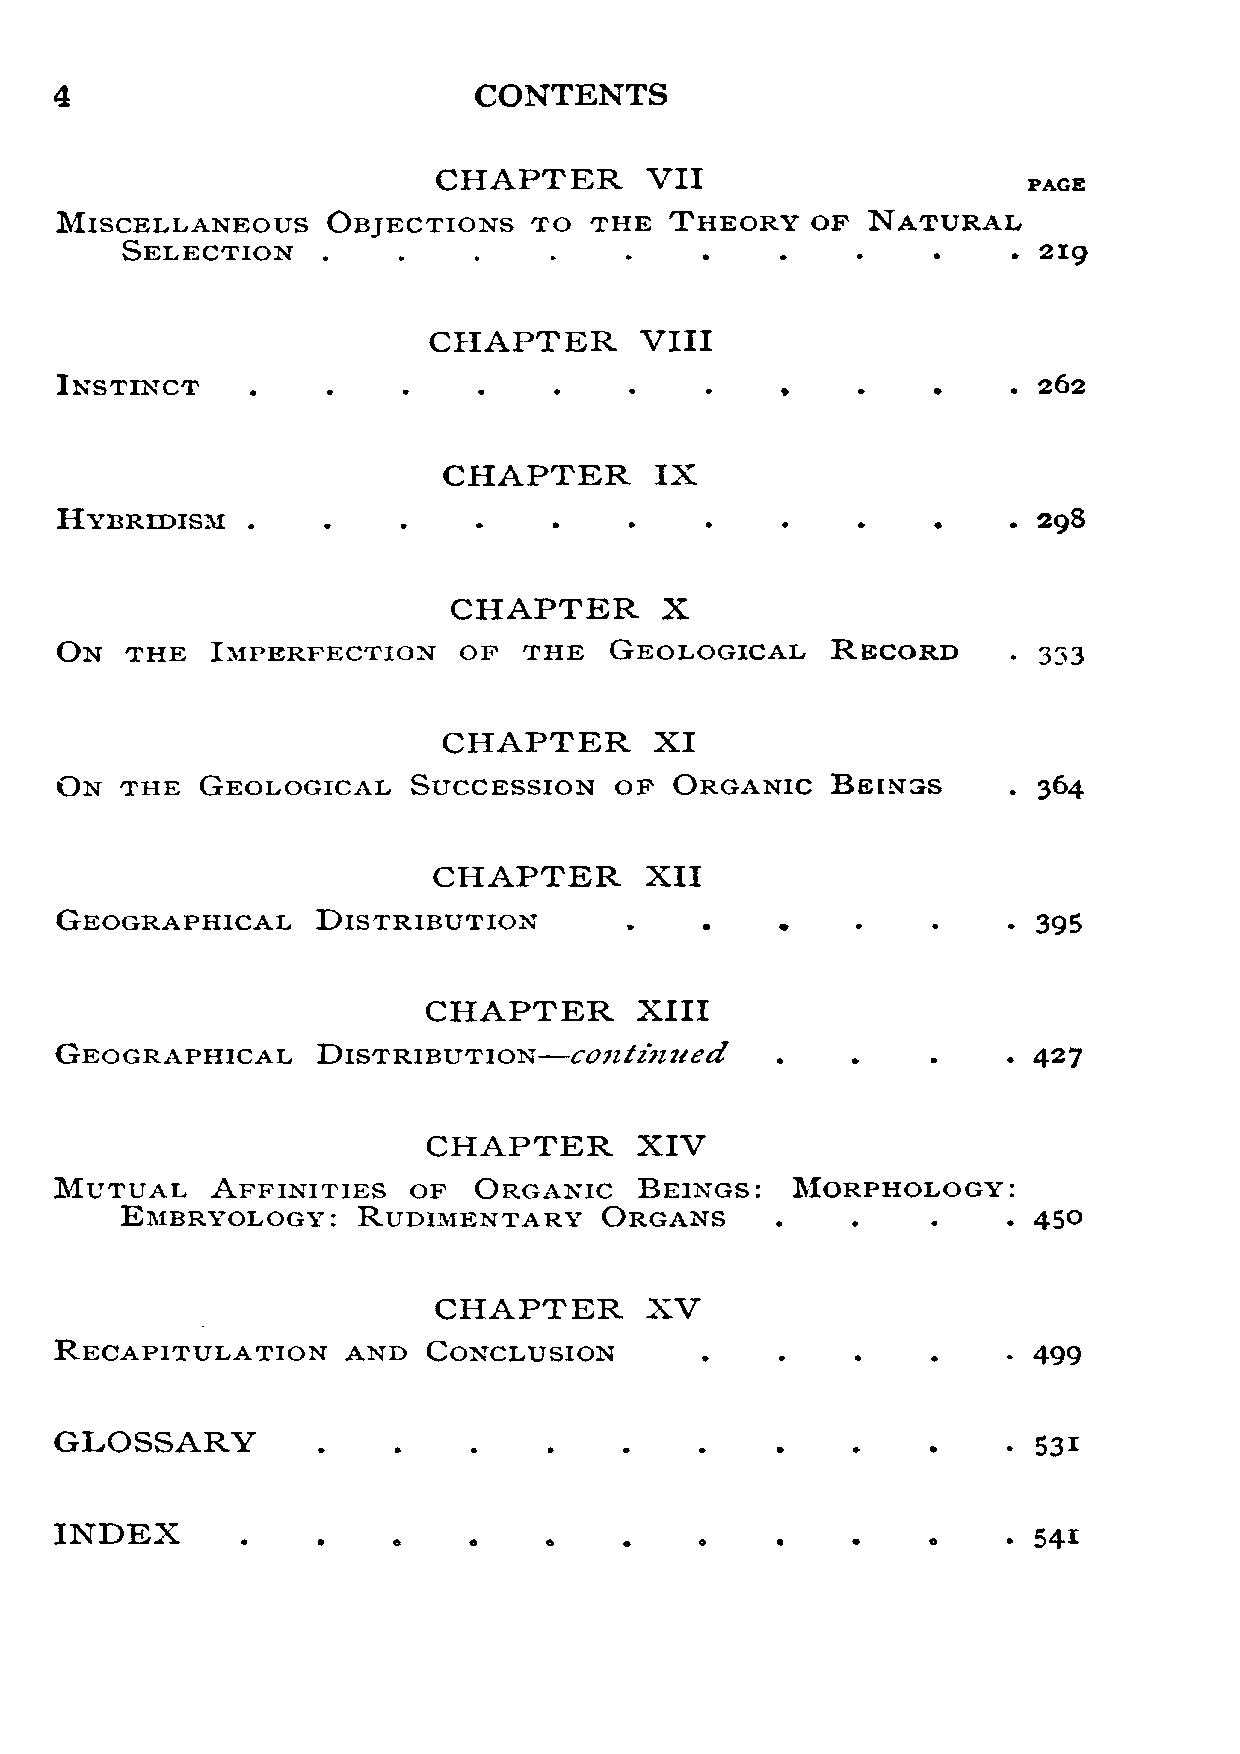TOC_chapter: (48, 1166, 1024, 1231), (50, 203, 1027, 262), (50, 628, 960, 676), (56, 764, 942, 807), (50, 1329, 631, 1376), (52, 1031, 735, 1067), (59, 900, 541, 942), (417, 309, 717, 366), (416, 985, 713, 1031), (416, 148, 706, 193), (427, 450, 703, 493), (433, 722, 709, 765), (450, 582, 692, 628), (411, 858, 717, 892), (50, 1414, 260, 1460), (429, 1286, 709, 1319), (423, 1125, 711, 1157), (43, 352, 200, 411), (54, 488, 229, 539), (43, 1516, 184, 1551)
TOC_pagenumber: (1027, 633, 1100, 674), (1033, 488, 1088, 541), (1033, 221, 1091, 271), (1031, 1037, 1095, 1076), (1027, 900, 1091, 937), (1024, 1423, 1090, 1457), (1029, 768, 1086, 807), (1029, 1330, 1086, 1366), (1033, 1202, 1086, 1239), (1031, 370, 1088, 399), (1029, 1520, 1082, 1549)
chapter: (472, 79, 671, 111)
